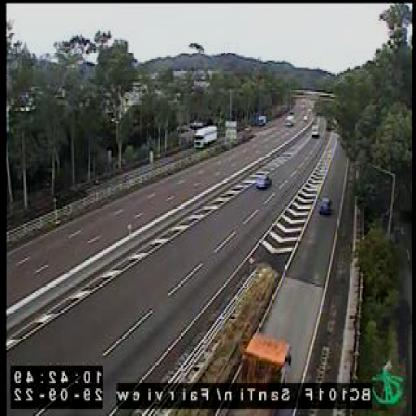Car: (320, 191, 334, 222), (255, 172, 273, 190), (311, 121, 321, 139)
Truck: (230, 331, 304, 414), (195, 123, 220, 153)
